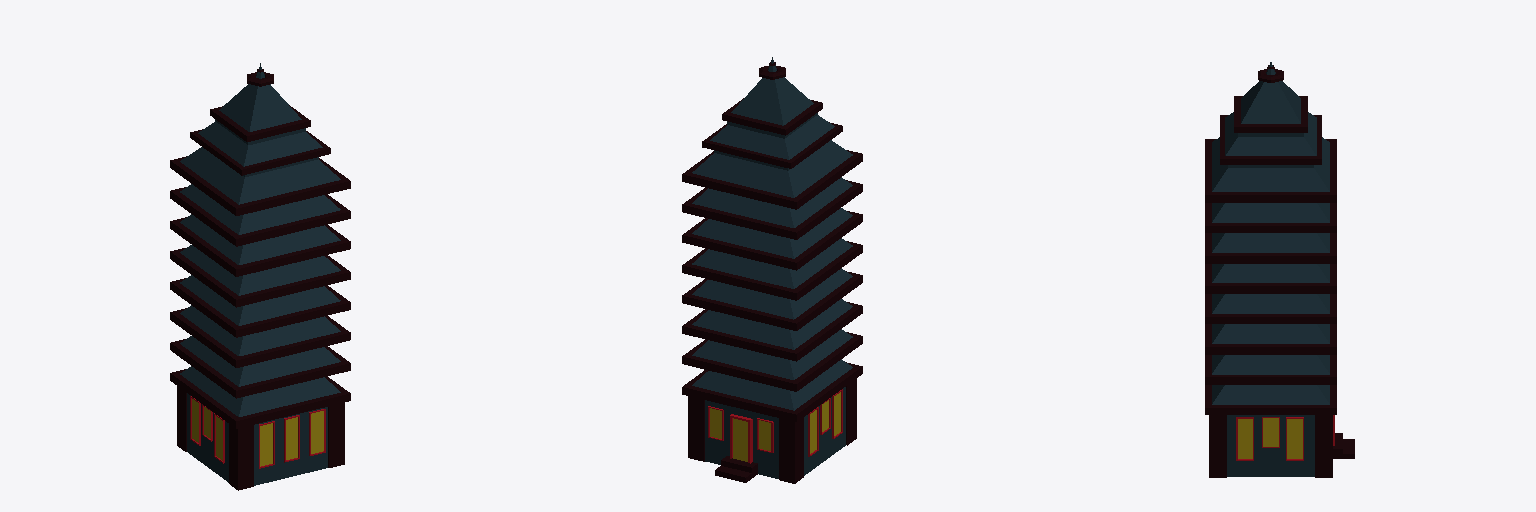
The model's file is Skycreeper_House_A.obj.
3 renders of one model, left to right at view 1: azimuth 30°, elevation 25°; view 2: azimuth 150°, elevation 25°; view 3: azimuth 270°, elevation 25°, orthographic.
Parts seen in each view (by area): view 1: Skycreeper_House_A; view 2: Skycreeper_House_A; view 3: Skycreeper_House_A.
Part boxes in pixels (left/top/right/bottom): Skycreeper_House_A: left=170, top=63, right=350, bottom=490; Skycreeper_House_A: left=682, top=57, right=862, bottom=483; Skycreeper_House_A: left=1205, top=62, right=1354, bottom=477.
Size of the model in its own units: 20.35 by 66.51 by 23.13.